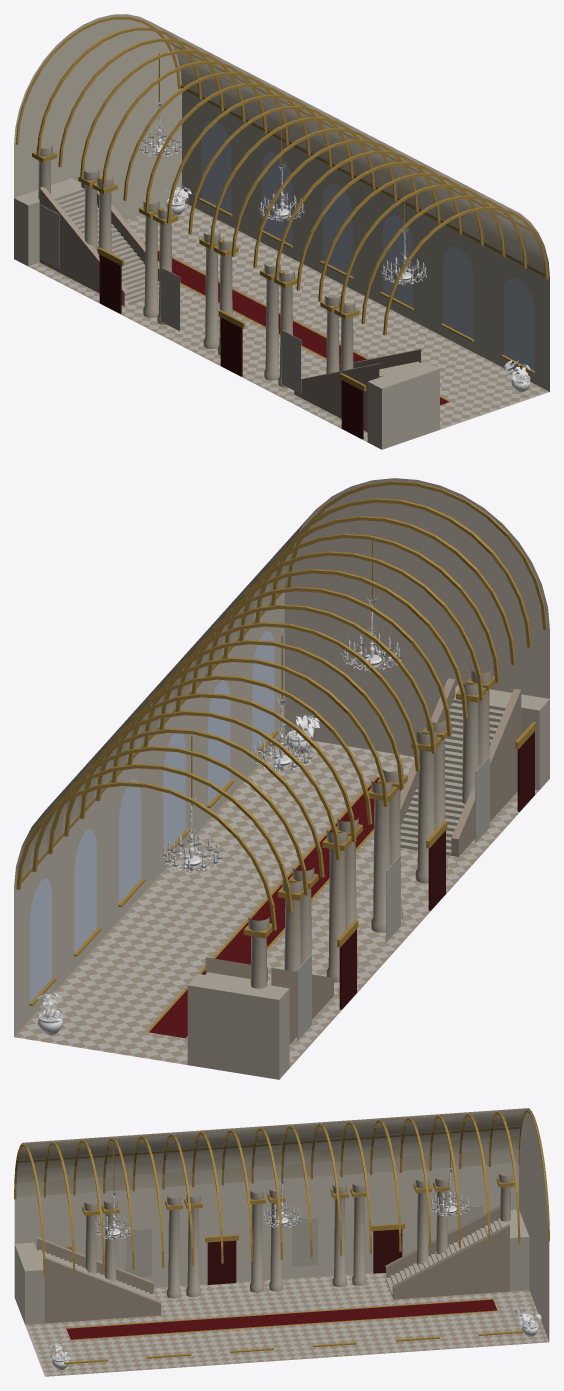
Rendered from opera_int.glb.
3 views of the same model, one above another, from view 1: azimuth 30°, elevation 25°; view 2: azimuth 150°, elevation 25°; view 3: azimuth 270°, elevation 25° (orthographic). The views are drawn at different scales.
Visible parts, largest first — view 1: I_x_plaster, I_x_marble_white, I_x_gold, I_sky, I_x_veneer, I_chrome, I_x_carpet_red, I_p_Chandelier_03__0, I_p_potted_plant_02__1; view 2: I_x_marble_white, I_x_plaster, I_x_gold, I_sky, I_x_carpet_red, I_x_veneer, I_chrome, I_p_Chandelier_03__0, I_p_potted_plant_02__0, I_p_potted_plant_02__1; view 3: I_x_marble_white, I_x_plaster, I_x_gold, I_x_carpet_red, I_chrome, I_x_veneer, I_p_Chandelier_03__0, I_p_potted_plant_02__1, I_p_potted_plant_02__0, I_p_Chandelier_03__1.
Boxes of the visible parts, x1=… form: I_x_plaster: x1=14, y1=14, x2=549, y2=391; I_x_marble_white: x1=14, y1=145, x2=549, y2=449; I_x_gold: x1=16, y1=16, x2=548, y2=401; I_sky: x1=201, y1=121, x2=534, y2=370; I_x_veneer: x1=99, y1=255, x2=363, y2=439; I_chrome: x1=40, y1=204, x2=301, y2=393; I_x_carpet_red: x1=145, y1=244, x2=448, y2=405; I_p_Chandelier_03__0: x1=137, y1=101, x2=426, y2=285; I_p_potted_plant_02__1: x1=164, y1=186, x2=530, y2=386; I_x_marble_white: x1=14, y1=669, x2=549, y2=1079; I_x_plaster: x1=14, y1=478, x2=549, y2=1036; I_x_gold: x1=16, y1=481, x2=546, y2=1038; I_sky: x1=30, y1=631, x2=274, y2=1002; I_x_carpet_red: x1=148, y1=777, x2=401, y2=1038; I_x_veneer: x1=339, y1=731, x2=534, y2=1009; I_chrome: x1=297, y1=756, x2=489, y2=1040; I_p_Chandelier_03__0: x1=162, y1=596, x2=400, y2=872; I_p_potted_plant_02__0: x1=38, y1=730, x2=311, y2=1034; I_p_potted_plant_02__1: x1=36, y1=714, x2=319, y2=1022; I_x_marble_white: x1=14, y1=1174, x2=548, y2=1376; I_x_plaster: x1=14, y1=1108, x2=549, y2=1341; I_x_gold: x1=14, y1=1110, x2=549, y2=1364; I_x_carpet_red: x1=66, y1=1299, x2=497, y2=1339; I_chrome: x1=126, y1=1206, x2=483, y2=1277; I_x_veneer: x1=207, y1=1229, x2=402, y2=1284; I_p_Chandelier_03__0: x1=94, y1=1167, x2=469, y2=1240; I_p_potted_plant_02__1: x1=48, y1=1307, x2=541, y2=1359; I_p_potted_plant_02__0: x1=52, y1=1321, x2=538, y2=1369; I_p_Chandelier_03__1: x1=93, y1=1197, x2=470, y2=1238.
Bounding box in the file's own units: 20.54 × 15.95 × 40.85.
